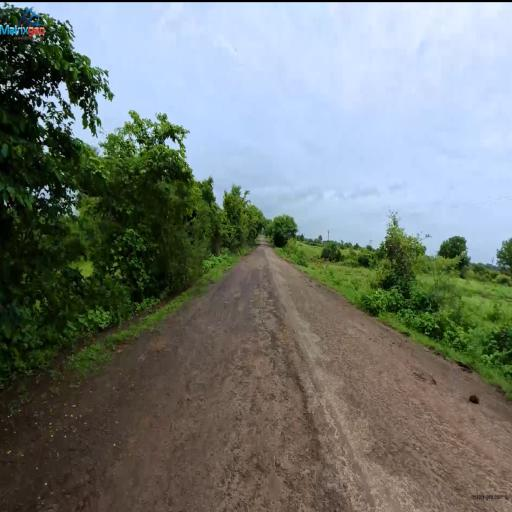ravelling: (246, 295, 330, 483)
